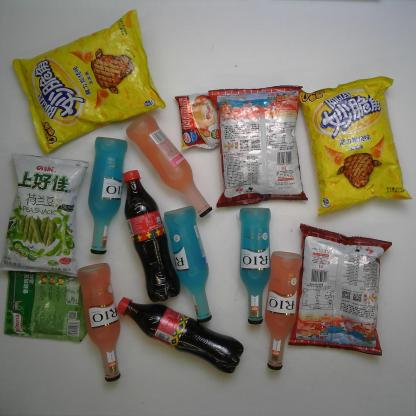Alcohol: (124, 114, 214, 220), (162, 202, 214, 326), (76, 261, 122, 383), (86, 135, 128, 257), (264, 247, 303, 374), (236, 205, 274, 326)
Dessert: (173, 90, 221, 152)
Drink: (113, 296, 245, 375), (119, 165, 182, 305)
Puffed Food: (8, 7, 168, 157), (294, 74, 414, 218), (288, 221, 392, 361), (207, 83, 310, 209), (1, 151, 90, 278)
Seasoner: (3, 268, 92, 346)
